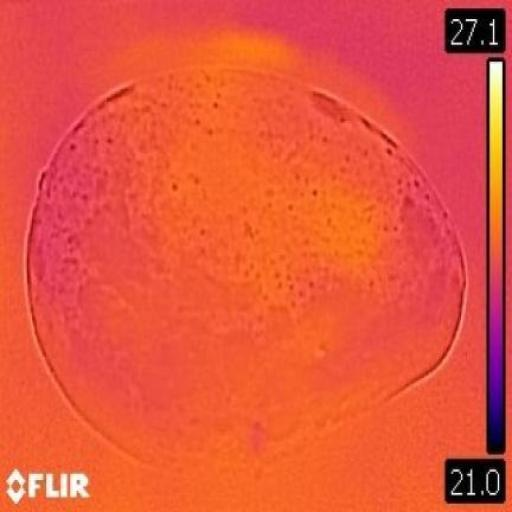alphanso: (28, 68, 465, 459)
